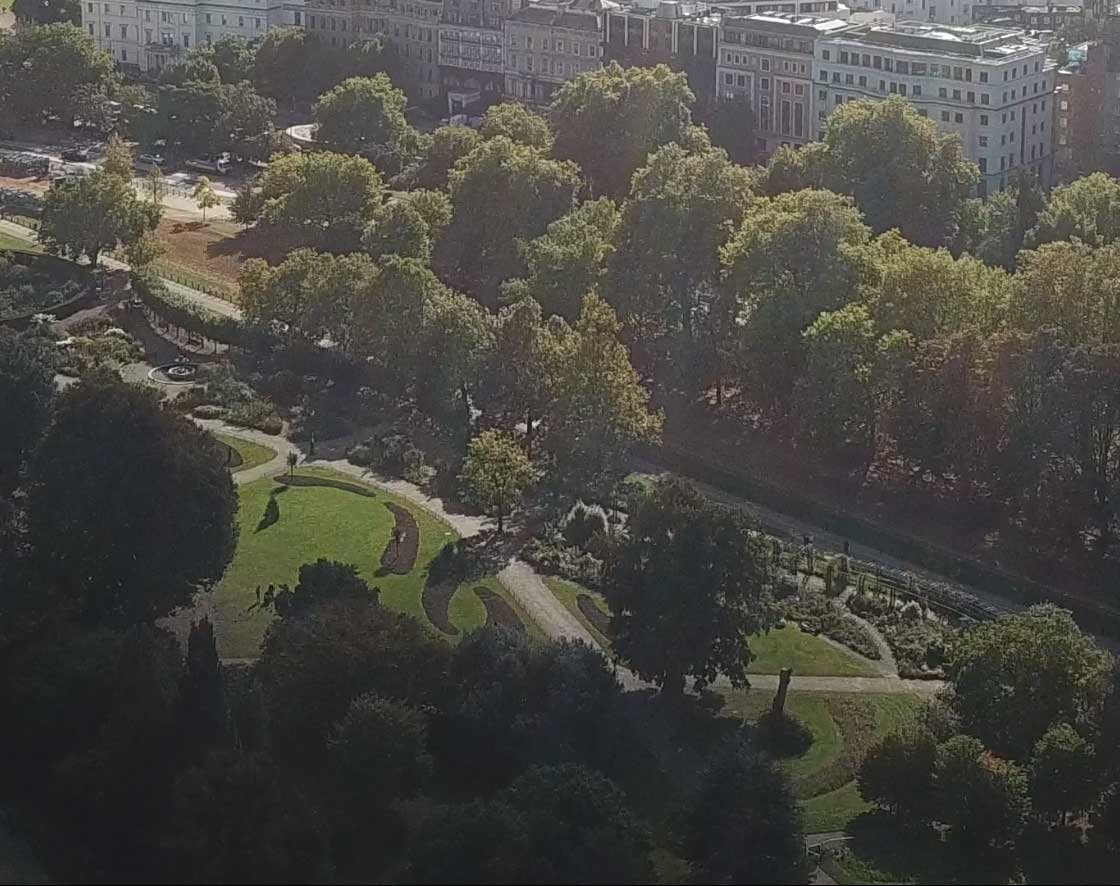building: (471, 1, 1079, 190)
tree: (14, 368, 257, 630), (593, 477, 772, 698), (37, 168, 159, 272)
trees: (307, 145, 1048, 420), (19, 618, 750, 884)
